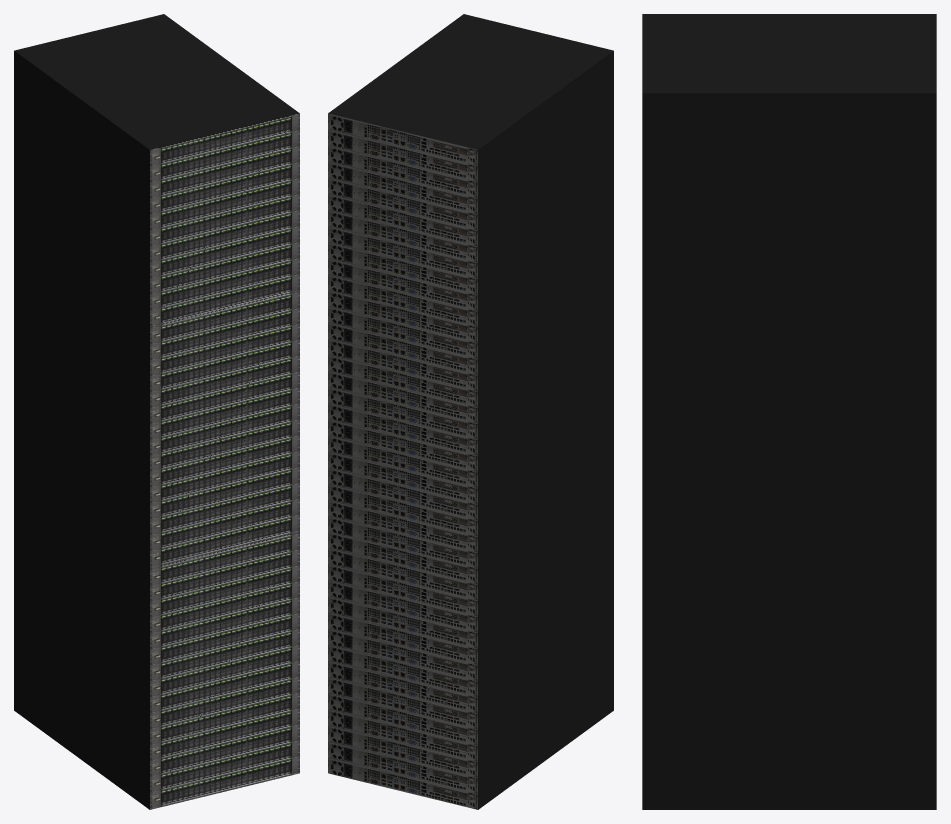
Rendered from TDR41.fbx.
3 renders of one model, left to right at view 1: azimuth 30°, elevation 25°; view 2: azimuth 150°, elevation 25°; view 3: azimuth 270°, elevation 25°, orthographic. The views are drawn at different scales.
Parts seen in each view (by area): view 1: TDR41; view 2: TDR41; view 3: TDR41.
Boxes of the visible parts, box(x1,y1,x2,y2) form: TDR41: box(14, 14, 299, 809); TDR41: box(328, 14, 613, 809); TDR41: box(642, 14, 936, 809).
Bounding box in the file's own units: 434 × 1824 × 680.
3 materials, 2 textured.
